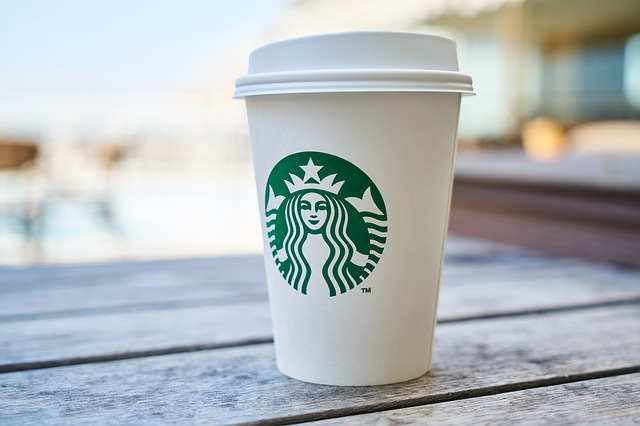cup: (218, 23, 482, 394)
